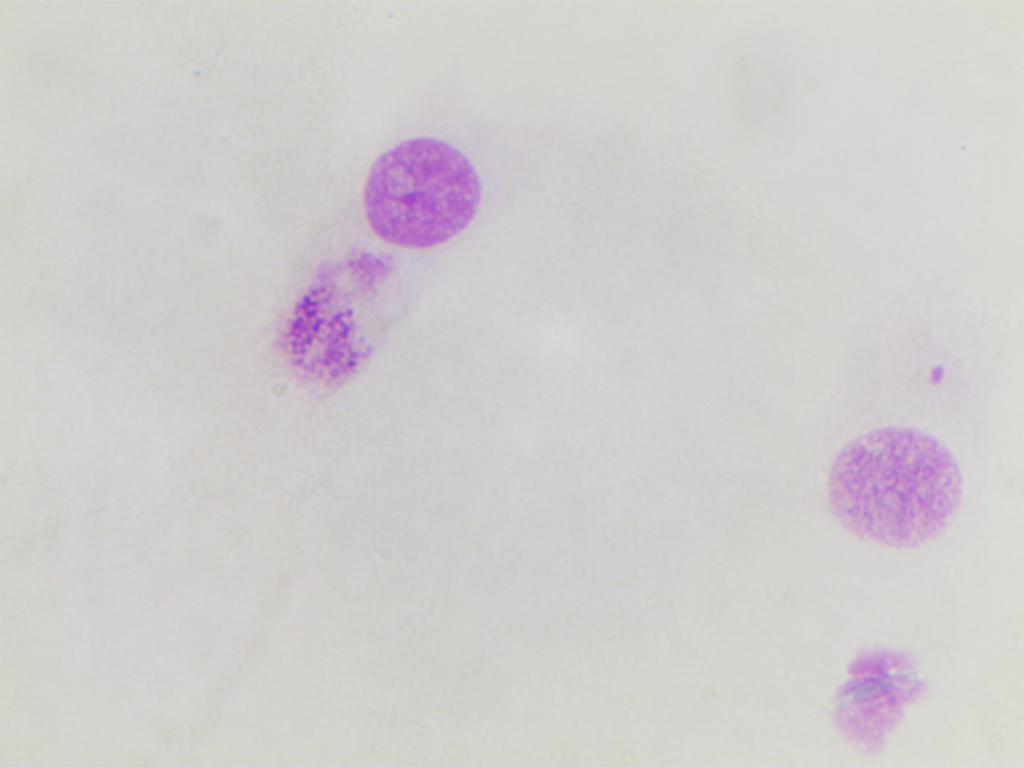artifact: (813, 632, 942, 762)
epithelial: (817, 404, 980, 562), (344, 119, 503, 268)
